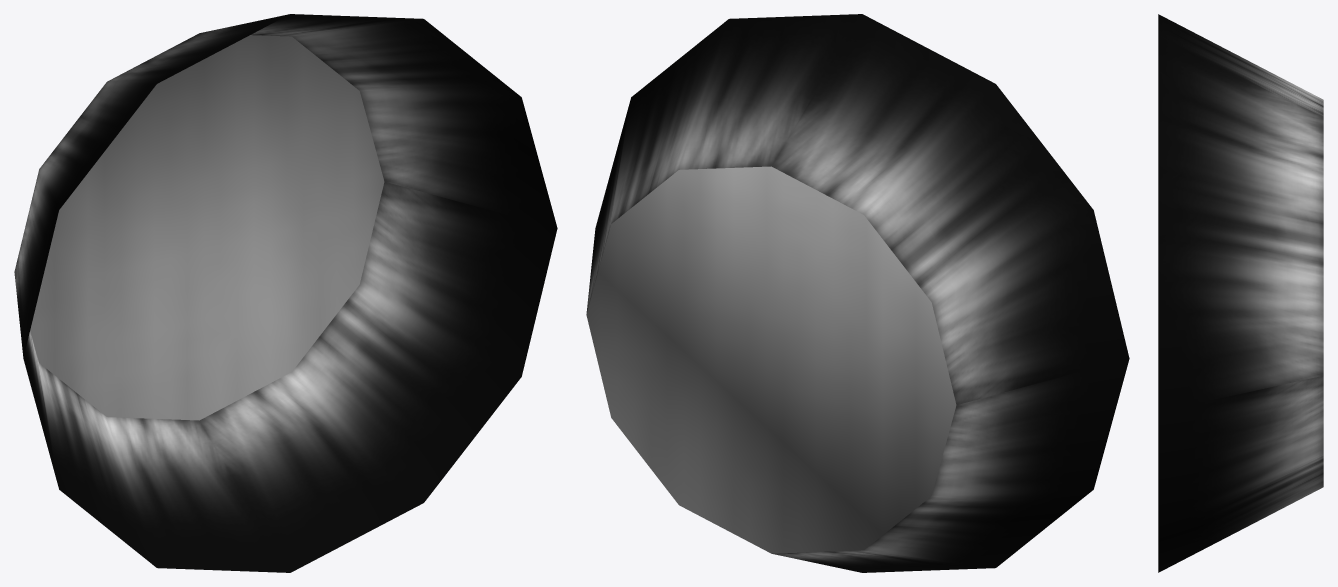
The model's file is Light_Flat_Round_LG_Lightcone.FBX.
The picture shows the model from 3 angles, left to right: view 1: azimuth 30°, elevation 25°; view 2: azimuth 150°, elevation 25°; view 3: azimuth 270°, elevation 25°; orthographic projection. The views are drawn at different scales.
Parts seen in each view (by area): view 1: Light_Flat_Round_LG_Lightcone; view 2: Light_Flat_Round_LG_Lightcone; view 3: Light_Flat_Round_LG_Lightcone.
Part boxes in pixels (left/top/right/bottom): Light_Flat_Round_LG_Lightcone: left=14, top=14, right=557, bottom=572; Light_Flat_Round_LG_Lightcone: left=586, top=14, right=1129, bottom=572; Light_Flat_Round_LG_Lightcone: left=1158, top=14, right=1323, bottom=572.
Bounding box in the file's own units: 111 × 111 × 32.64.
